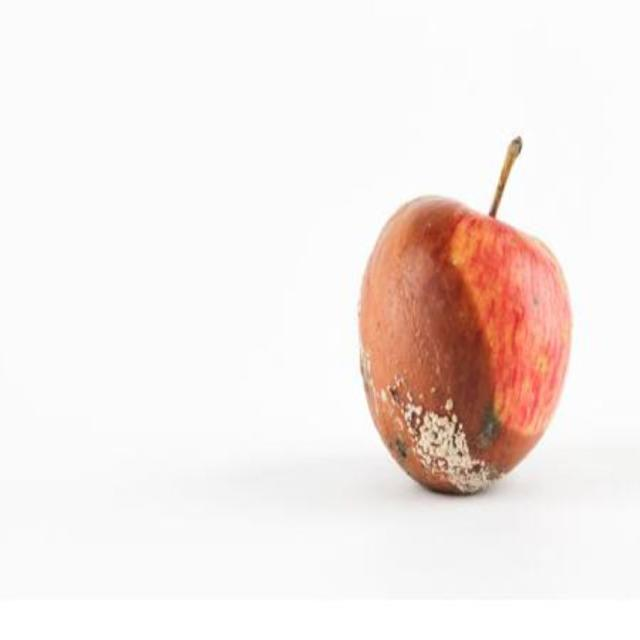Rotten Apple: (357, 136, 594, 520)
